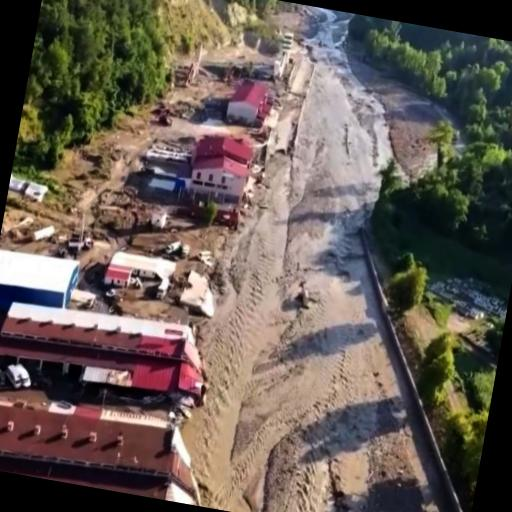house: (0, 379, 193, 502), (0, 292, 188, 401), (0, 243, 83, 321), (186, 132, 255, 203), (220, 70, 279, 129), (356, 474, 431, 512), (102, 260, 135, 292)
